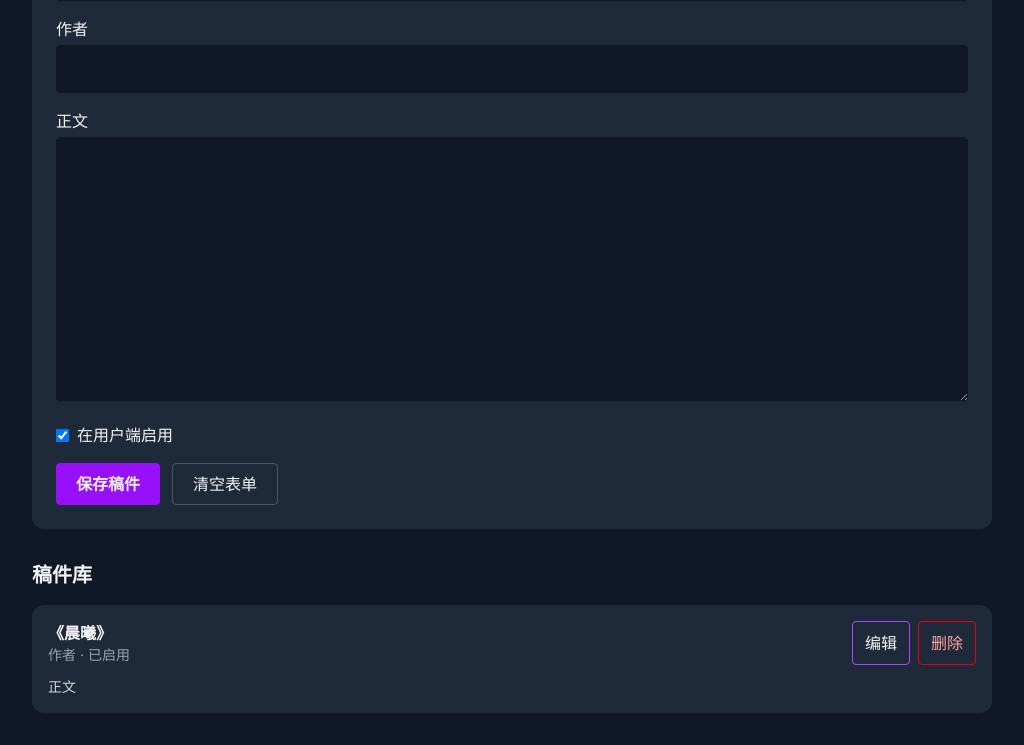
保存完整草稿后更新列表和成功反馈
The width and height of the screenshot is (1024, 745).
(page scrolled)
Expected: the heading "《晨曦》" is shown, [48,623,112,643]
Click the button "编辑" at [881, 643], box [852,621,910,665]
(page scrolled)
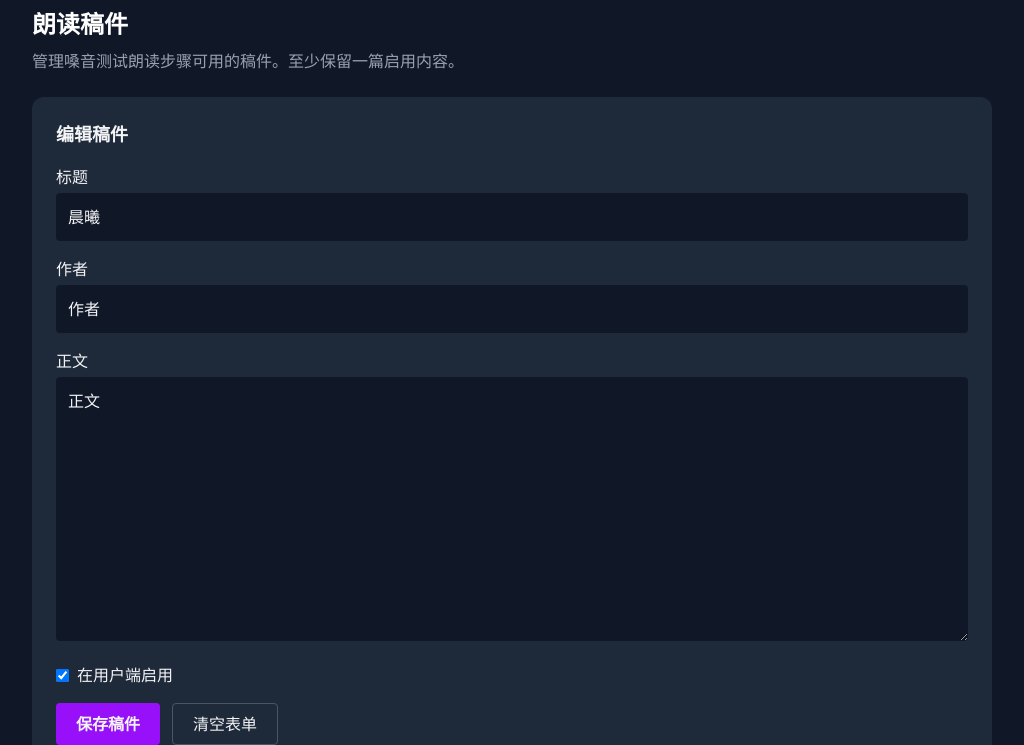
Replace the text in the field labelled "标题" with "新标题" at [512, 217], box [56,193,968,241]
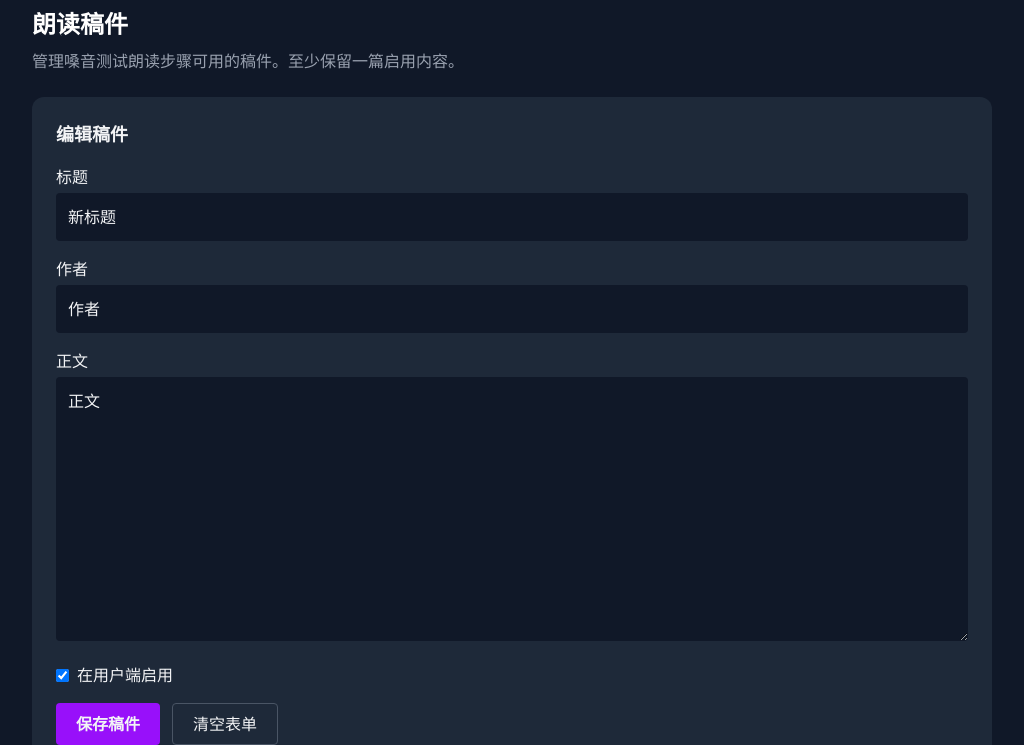
Click the button "保存稿件" at [108, 724], box [56,703,160,744]
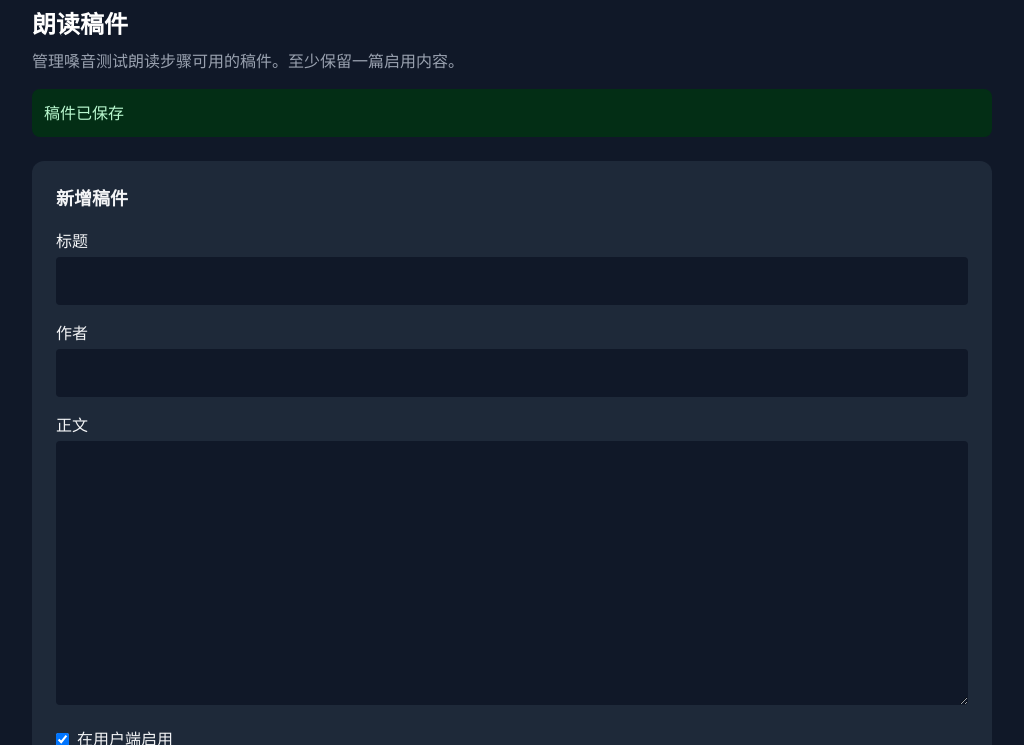
Expected: the message reads "稿件已保存", [44,103,124,123]
